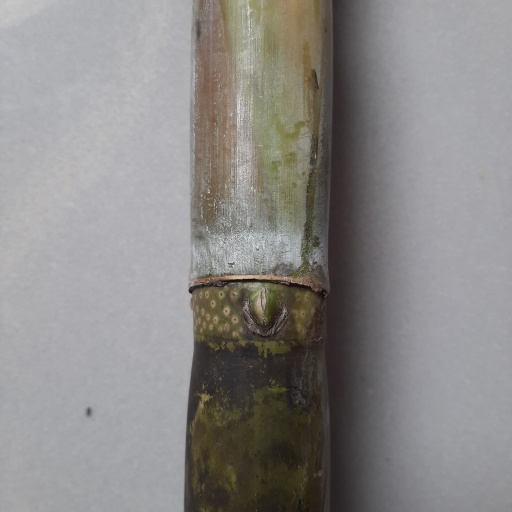Bud: (246, 285, 284, 333)
